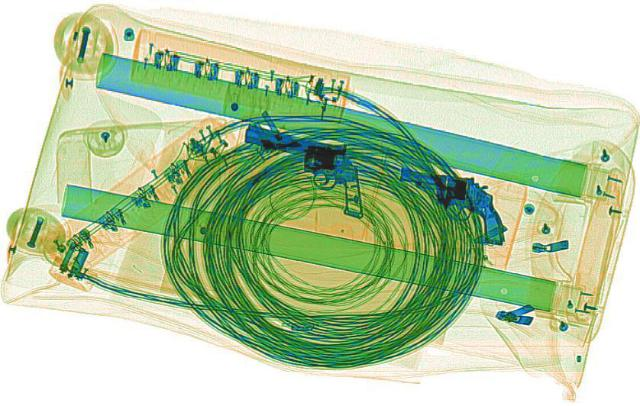Gun: (216, 122, 394, 216), (374, 169, 526, 243)
